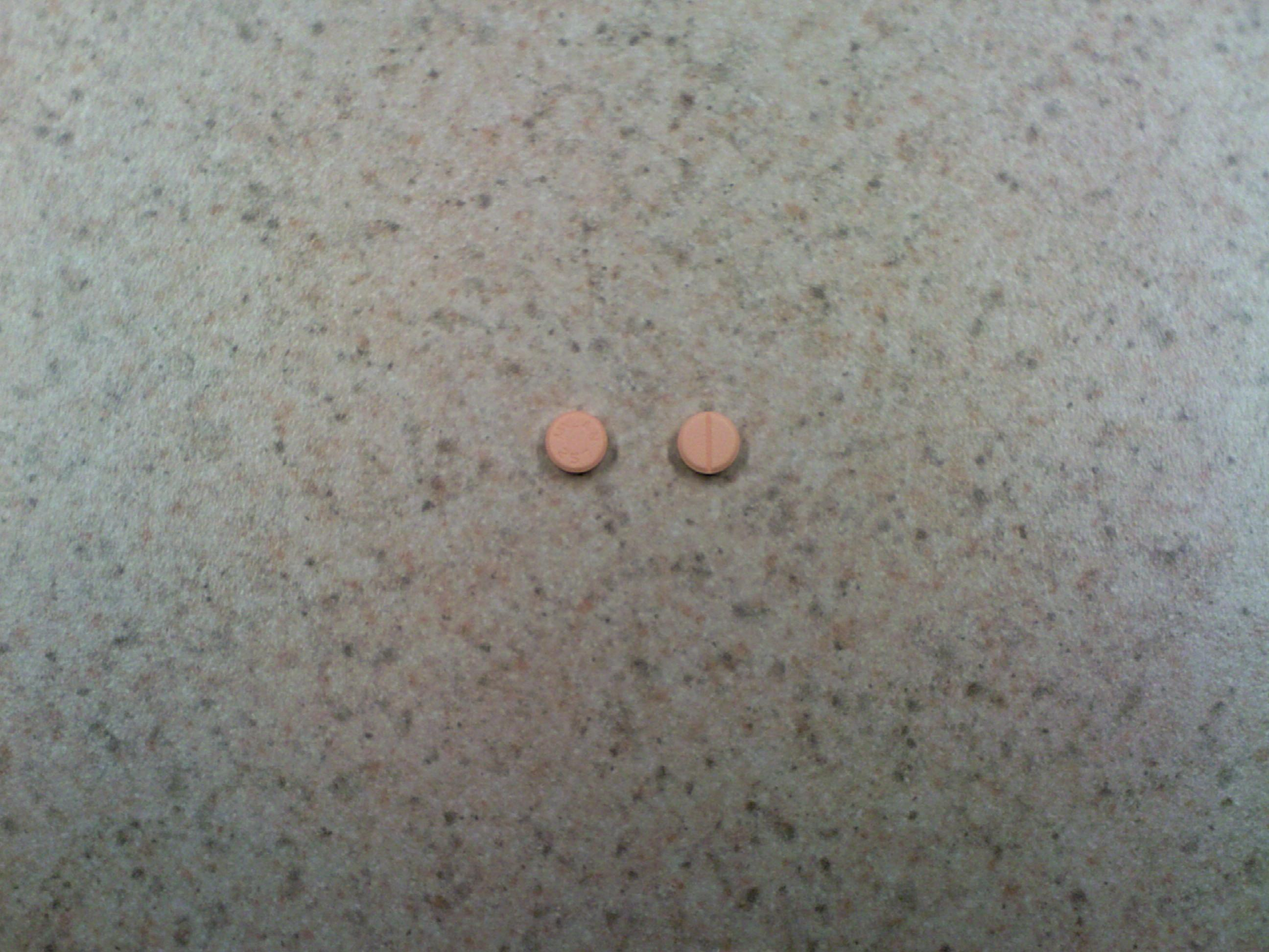Pill: (672, 406, 746, 480), (540, 406, 614, 478)
